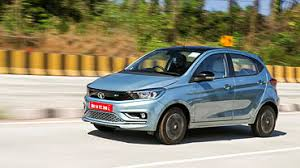Tiago: (80, 43, 281, 146)
